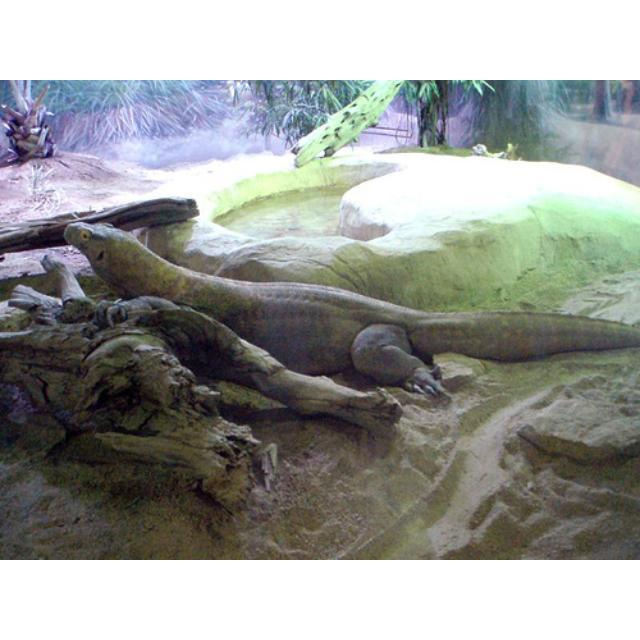KomodoDragon: (59, 215, 637, 405)
